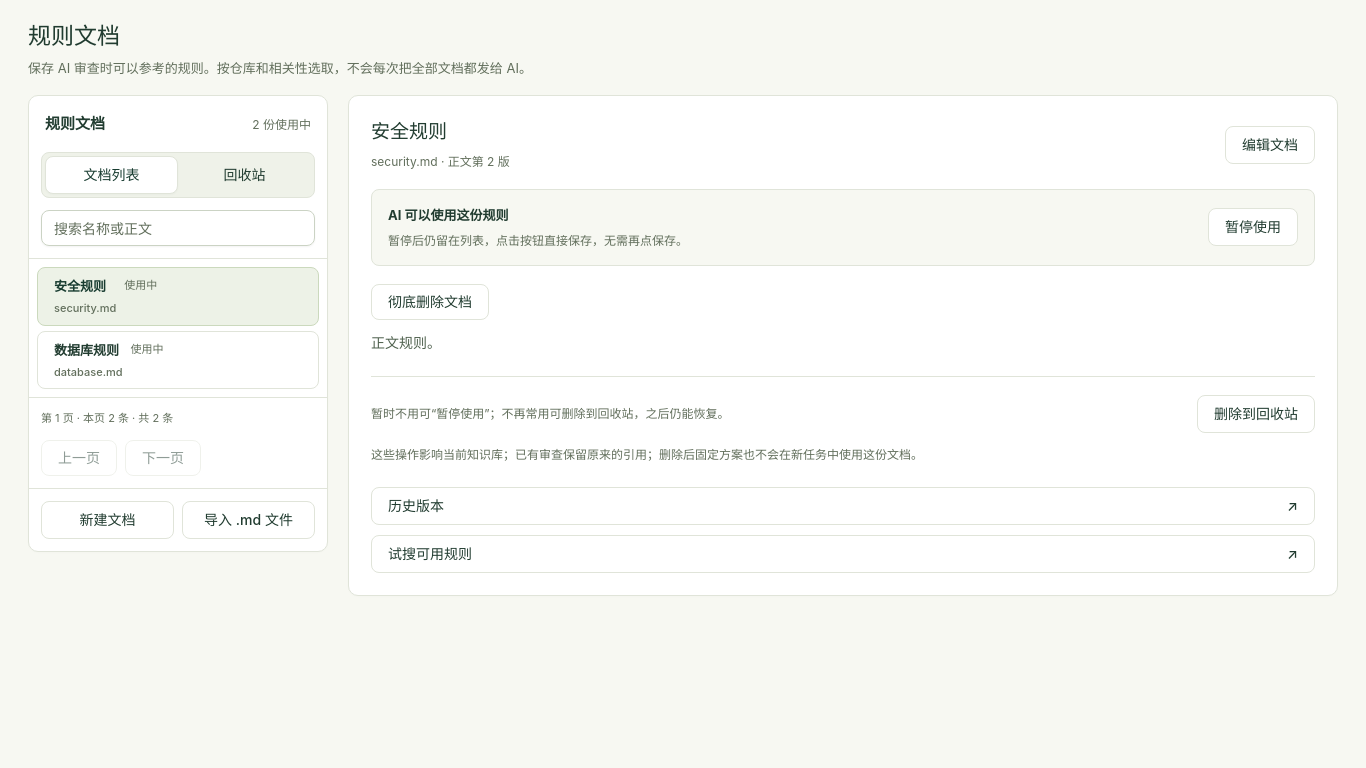
回收站独立展示，恢复并使用后自动回到文档列表
The image size is (1366, 768).
Expected: the button "暂停使用" is shown, [1208,208,1298,246]
Expected: the button "删除到回收站" is enabled, [1197,395,1315,433]
Click the tab "回收站".
click(244, 175)  # box [178,156,311,194]
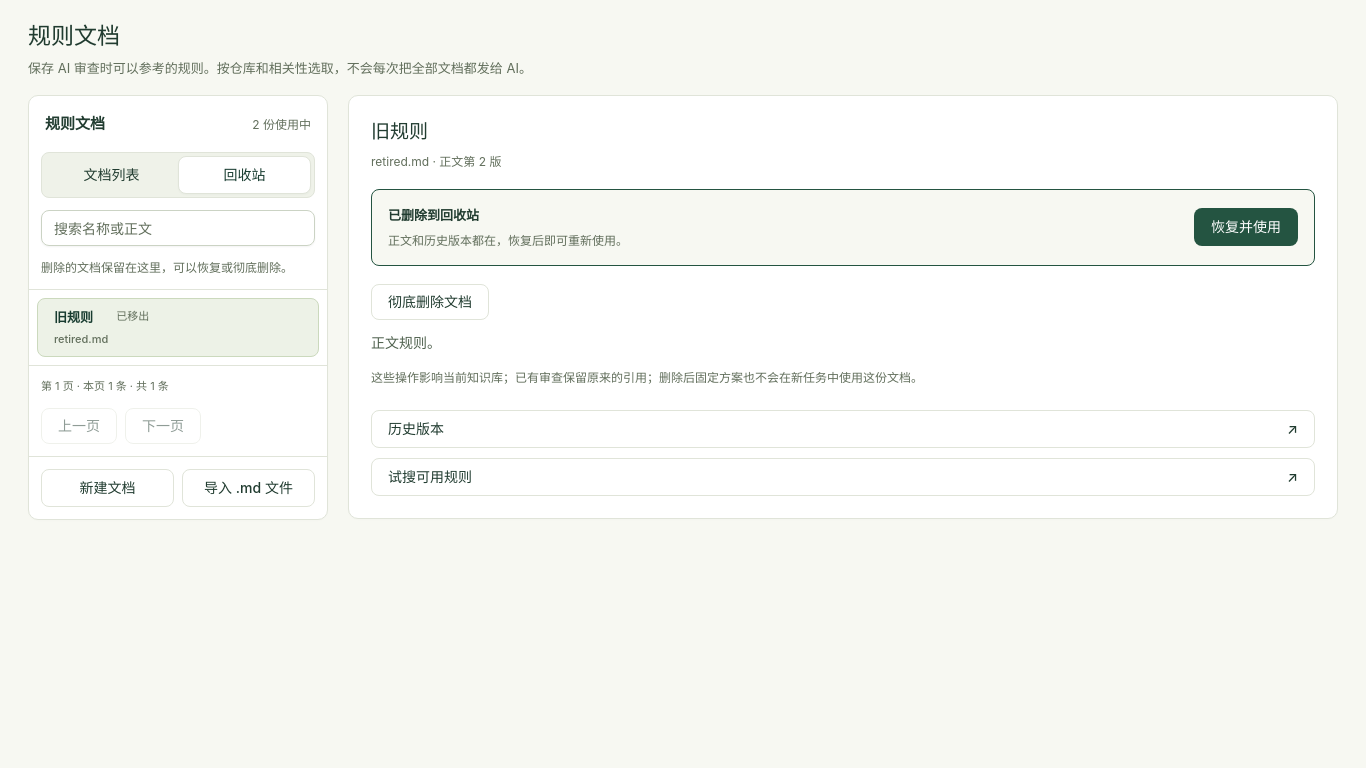
Now the button "恢复并使用" is enabled
Now the button "安全规则" is gone
Now the text "旧规则" is shown, box [54,310,93,326]
Click the button "恢复并使用".
click(1246, 227)  # box [1194,208,1298,246]
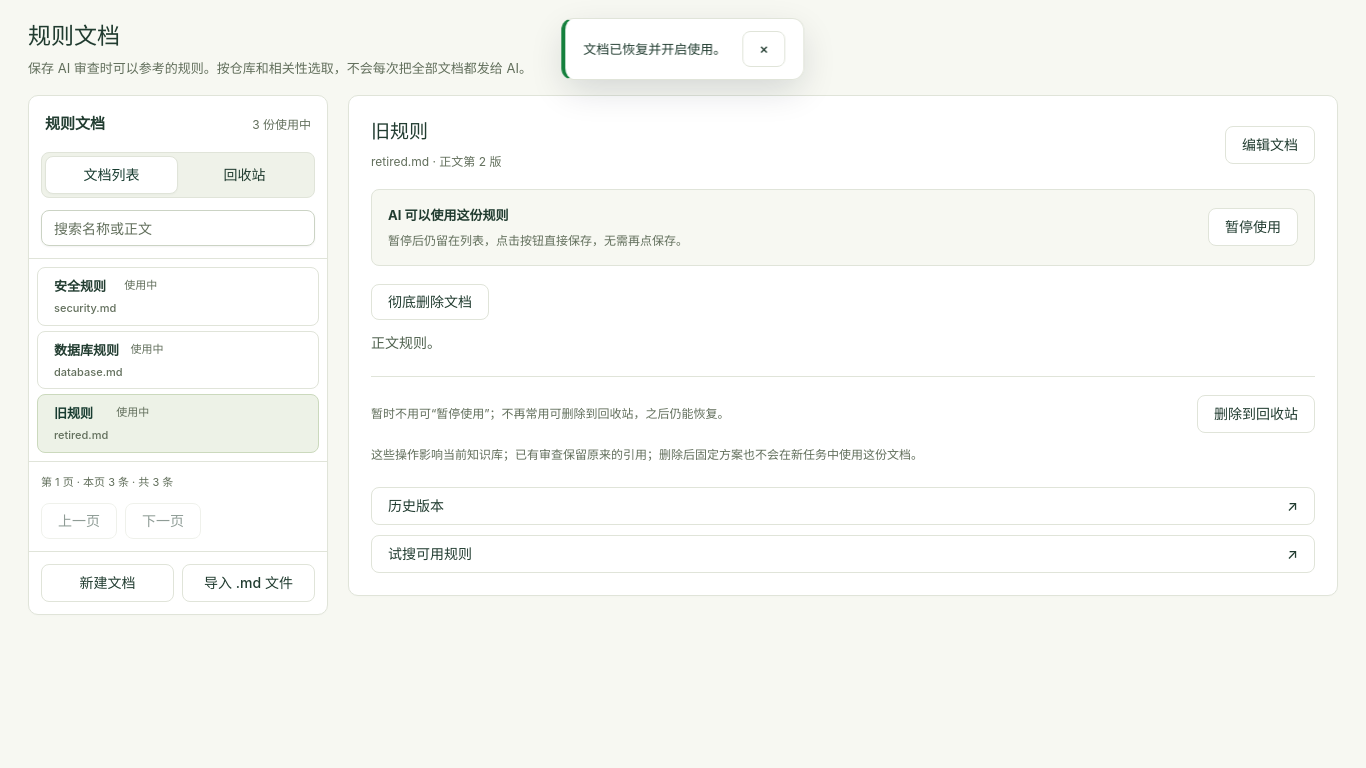
Now the text "文档已恢复并开启使用。" is shown, box [583,38,726,60]
